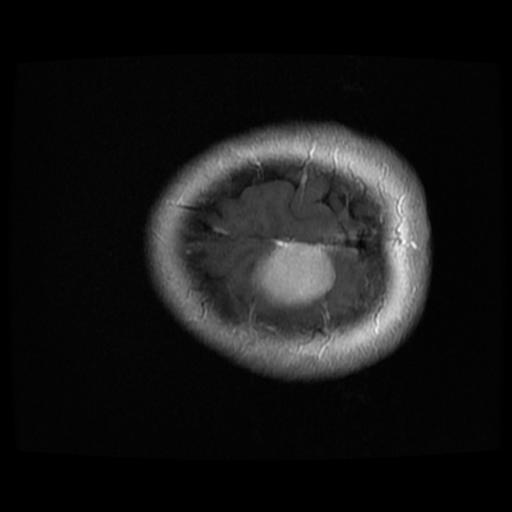meningioma: (253, 240, 333, 308)
